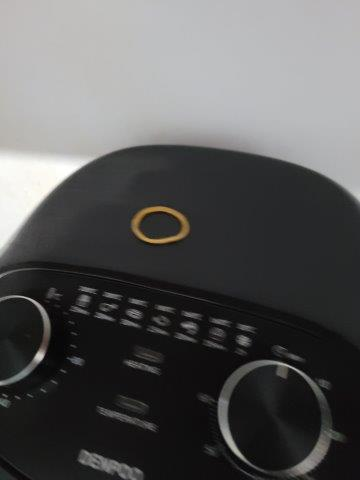karet: (130, 205, 192, 244)
